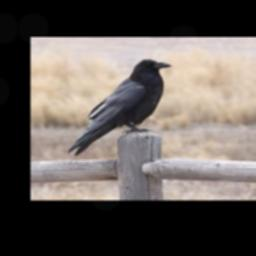Crow: (66, 57, 173, 157)
